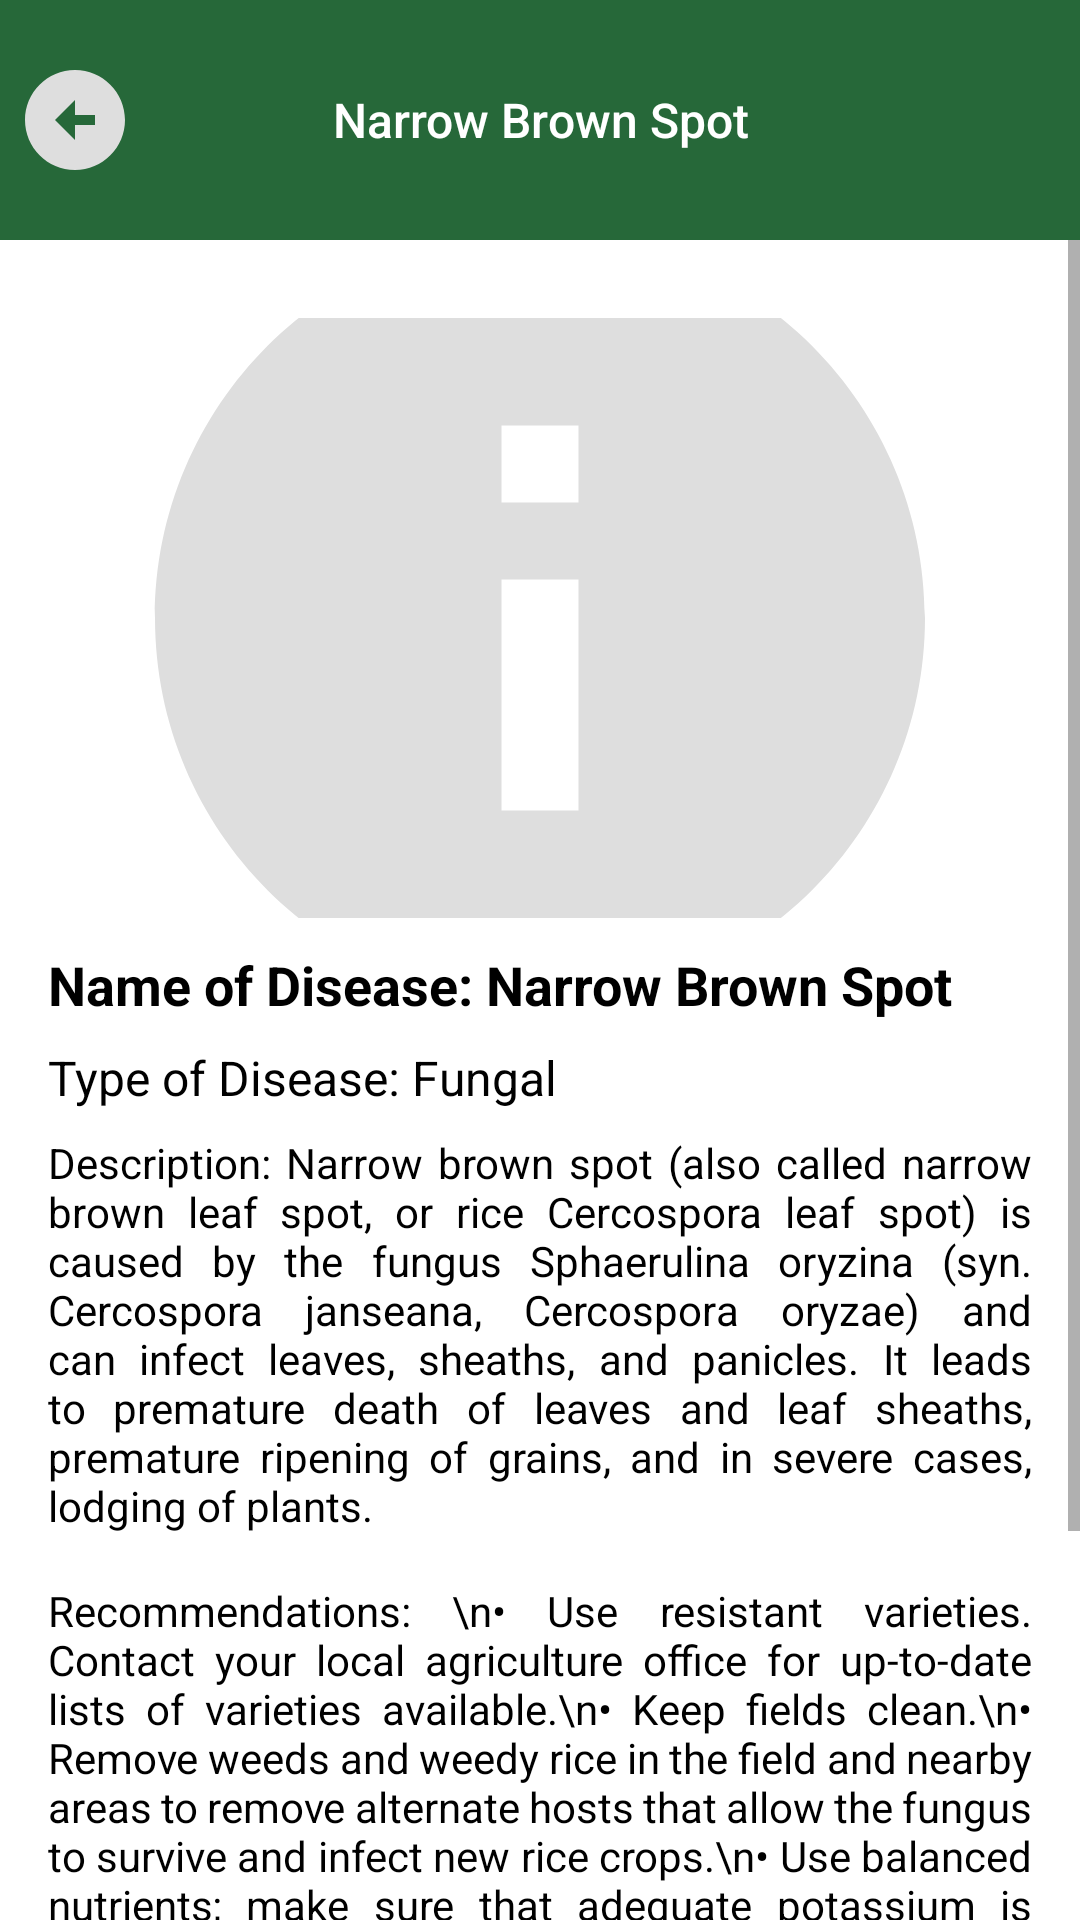

Icon bounding boxes for this 1080×1920 phone screenshot, format region(x1, y1, x2, y2):
arrow circle left: region(25, 70, 125, 170)
